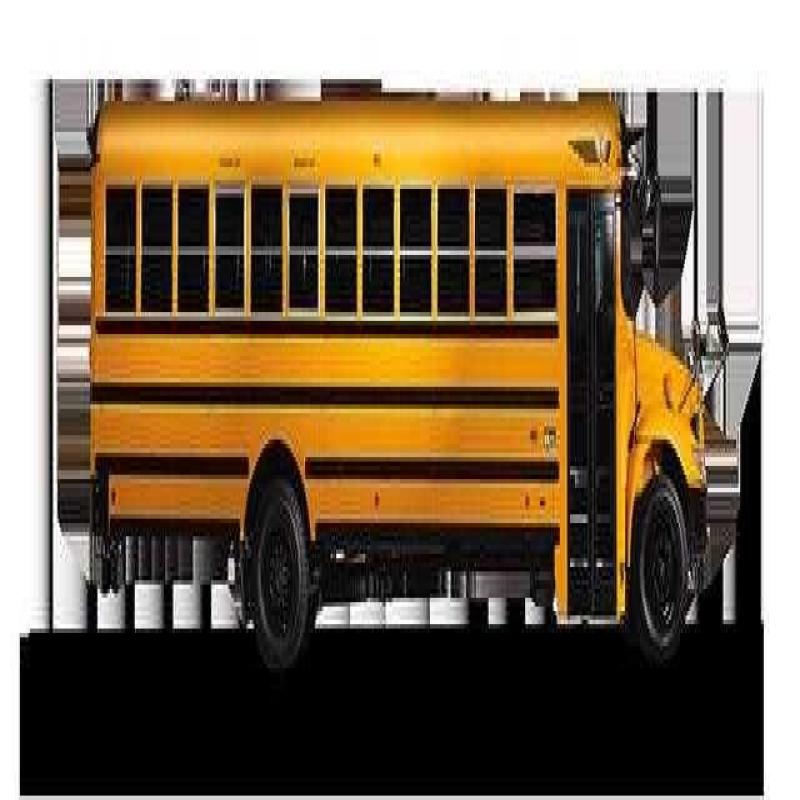bus: (86, 75, 715, 698)
